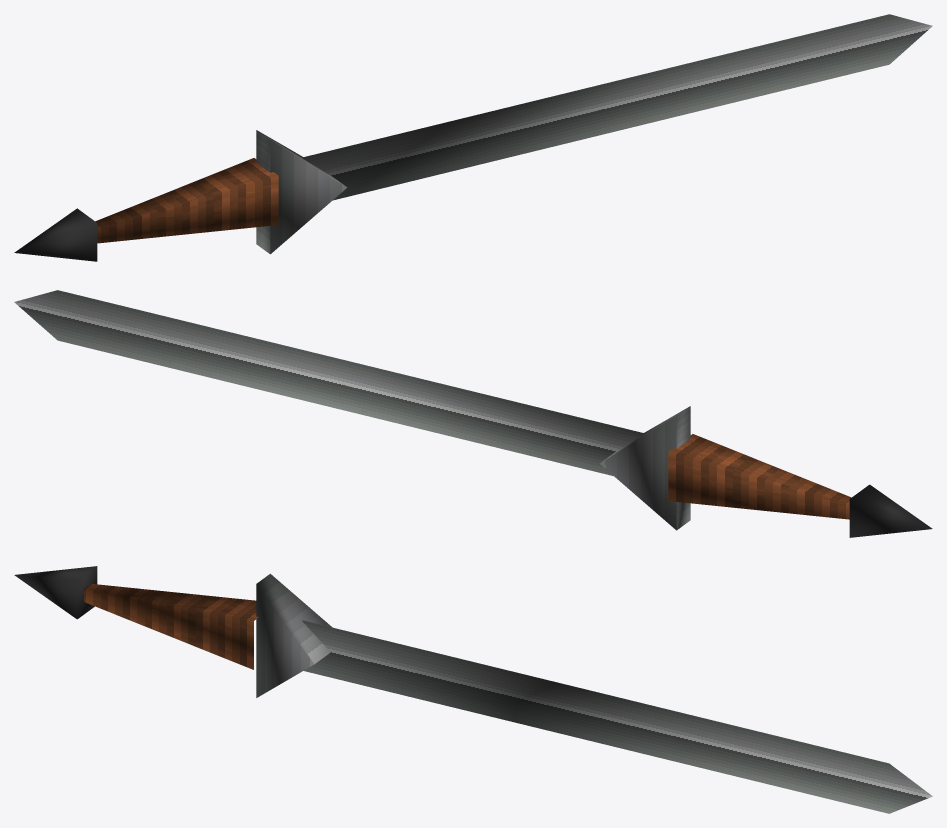
The picture shows the model from 3 angles, top to bottom: view 1: azimuth 30°, elevation 25°; view 2: azimuth 150°, elevation 25°; view 3: azimuth 330°, elevation 25°; orthographic projection.
Parts seen in each view (by area): view 1: it34; view 2: it34; view 3: it34.
Part boxes in pixels (left/top/right/bottom): it34: left=14, top=14, right=932, bottom=261; it34: left=14, top=290, right=932, bottom=537; it34: left=14, top=566, right=932, bottom=813.
Bounding box in the file's own units: 2.39 × 0.2845 × 0.1481.
3 materials, 3 textured.
